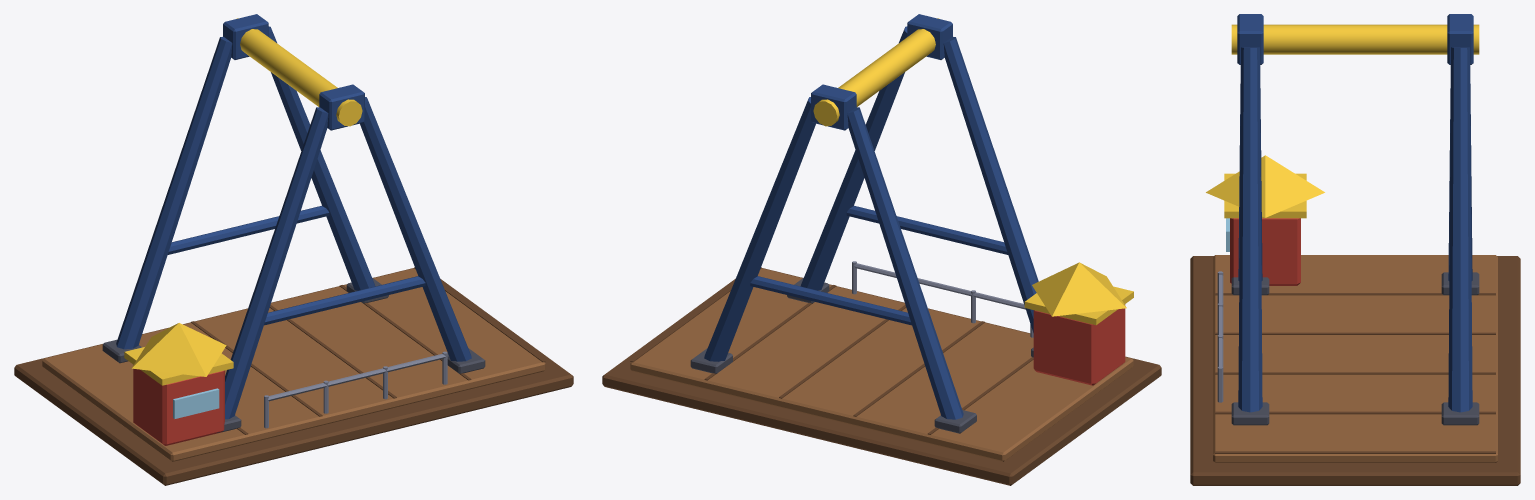
Rendered from pirate-ship.glb.
The picture shows the model from 3 angles, left to right: view 1: azimuth 30°, elevation 25°; view 2: azimuth 150°, elevation 25°; view 3: azimuth 270°, elevation 25°; orthographic projection. The views are drawn at different scales.
Parts seen in each view (by area): view 1: model; view 2: model; view 3: model.
Boxes of the visible parts, left/top/right/bottom form: model: left=14, top=14, right=573, bottom=485; model: left=602, top=14, right=1161, bottom=485; model: left=1190, top=14, right=1520, bottom=485.
Size of the model in its own units: 2.76 by 2.09 by 1.76.
1 material, 1 textured.
